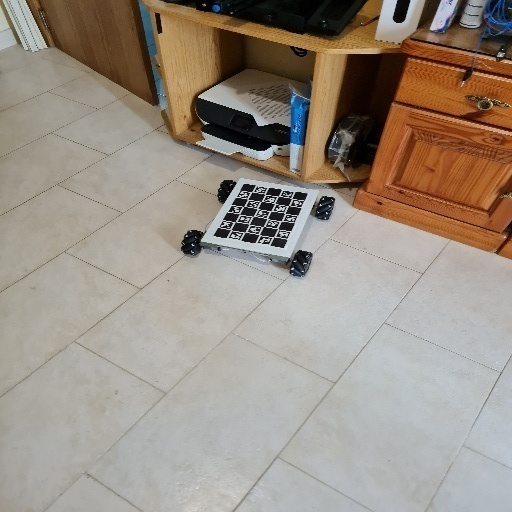Omniwheel: (180, 177, 337, 277)
